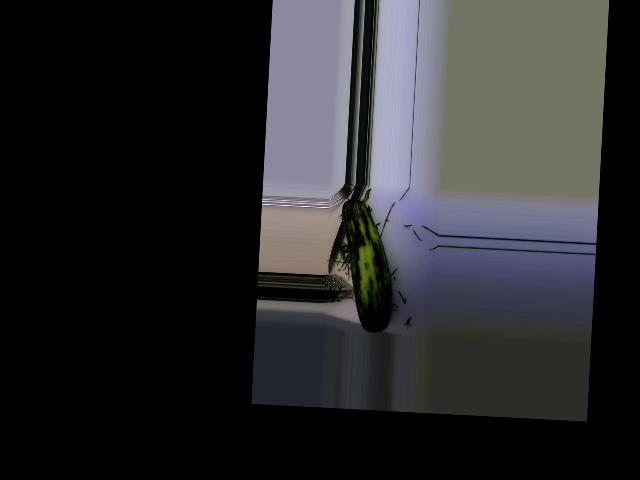cucumber: (335, 197, 397, 333)
